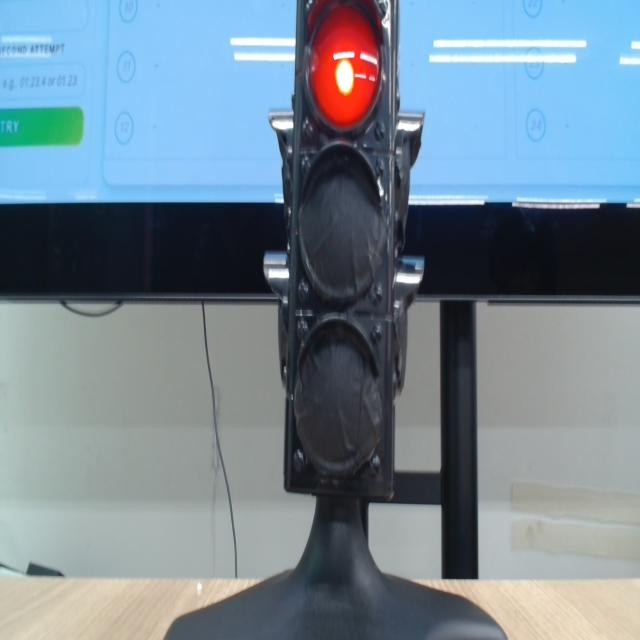red_light: (309, 6, 380, 129)
